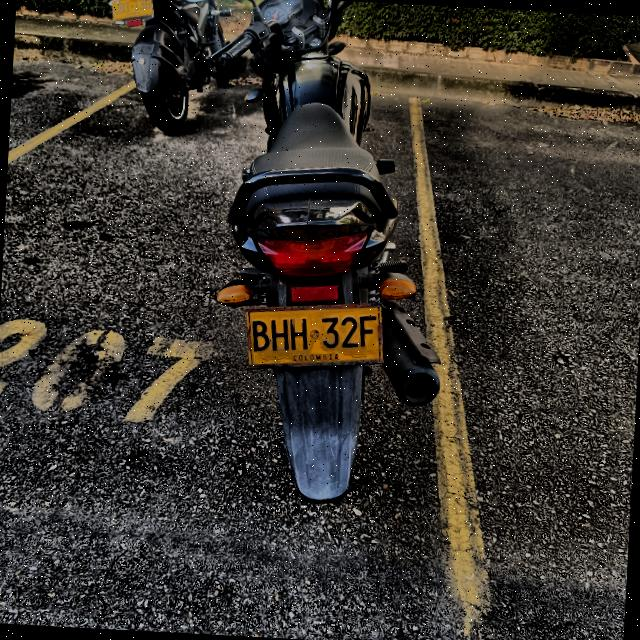plate: (246, 302, 384, 369)
